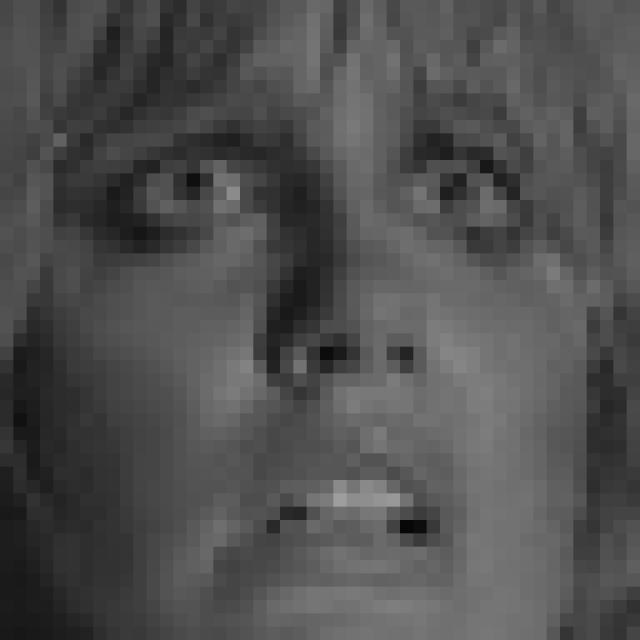fear: (83, 82, 558, 616)
